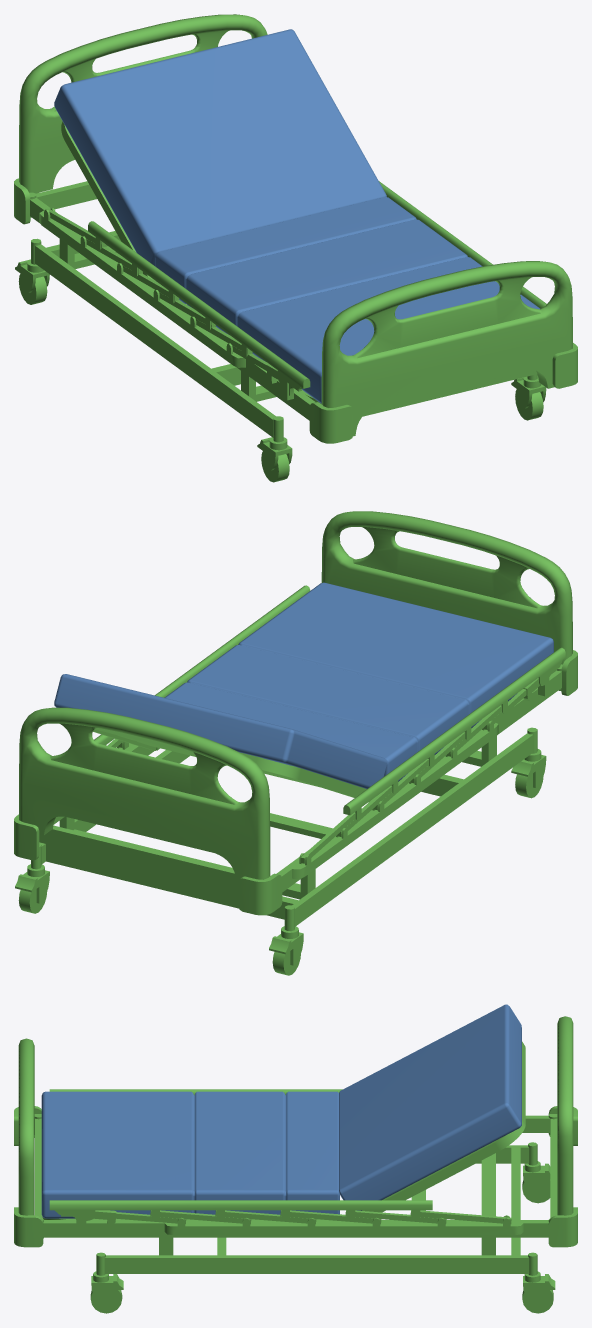
File: SM_HospitalBed_02d.FBX
The picture shows the model from 3 angles, top to bottom: view 1: azimuth 30°, elevation 25°; view 2: azimuth 150°, elevation 25°; view 3: azimuth 270°, elevation 25°; orthographic projection. The views are drawn at different scales.
Visible parts, largest first — view 1: SM_HospitalBed_02d_LOD0; view 2: SM_HospitalBed_02d_LOD0; view 3: SM_HospitalBed_02d_LOD0.
Part boxes in pixels (box(x1,y1,x2,y2)): SM_HospitalBed_02d_LOD0: box(14, 14, 577, 482); SM_HospitalBed_02d_LOD0: box(14, 511, 577, 975); SM_HospitalBed_02d_LOD0: box(14, 1004, 577, 1313).
Size of what is drawn, in the model's own units: 109 by 89.09 by 221.
